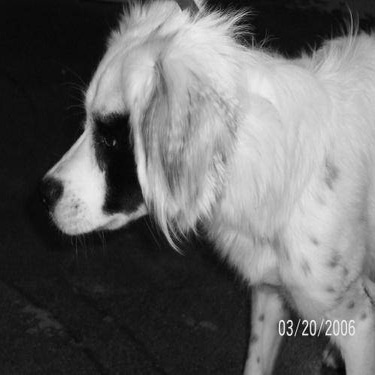dog: (31, 1, 371, 373)
